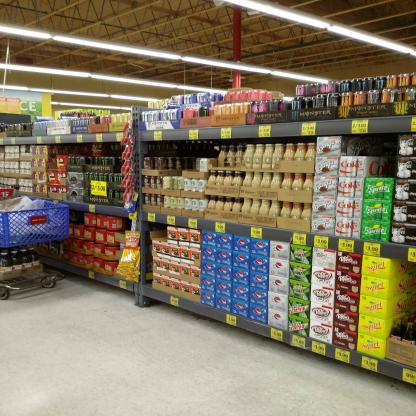Void: (352, 135, 394, 155), (177, 140, 201, 172), (400, 259, 414, 308), (372, 160, 394, 176), (146, 140, 170, 153), (151, 223, 161, 242), (206, 143, 219, 153)
